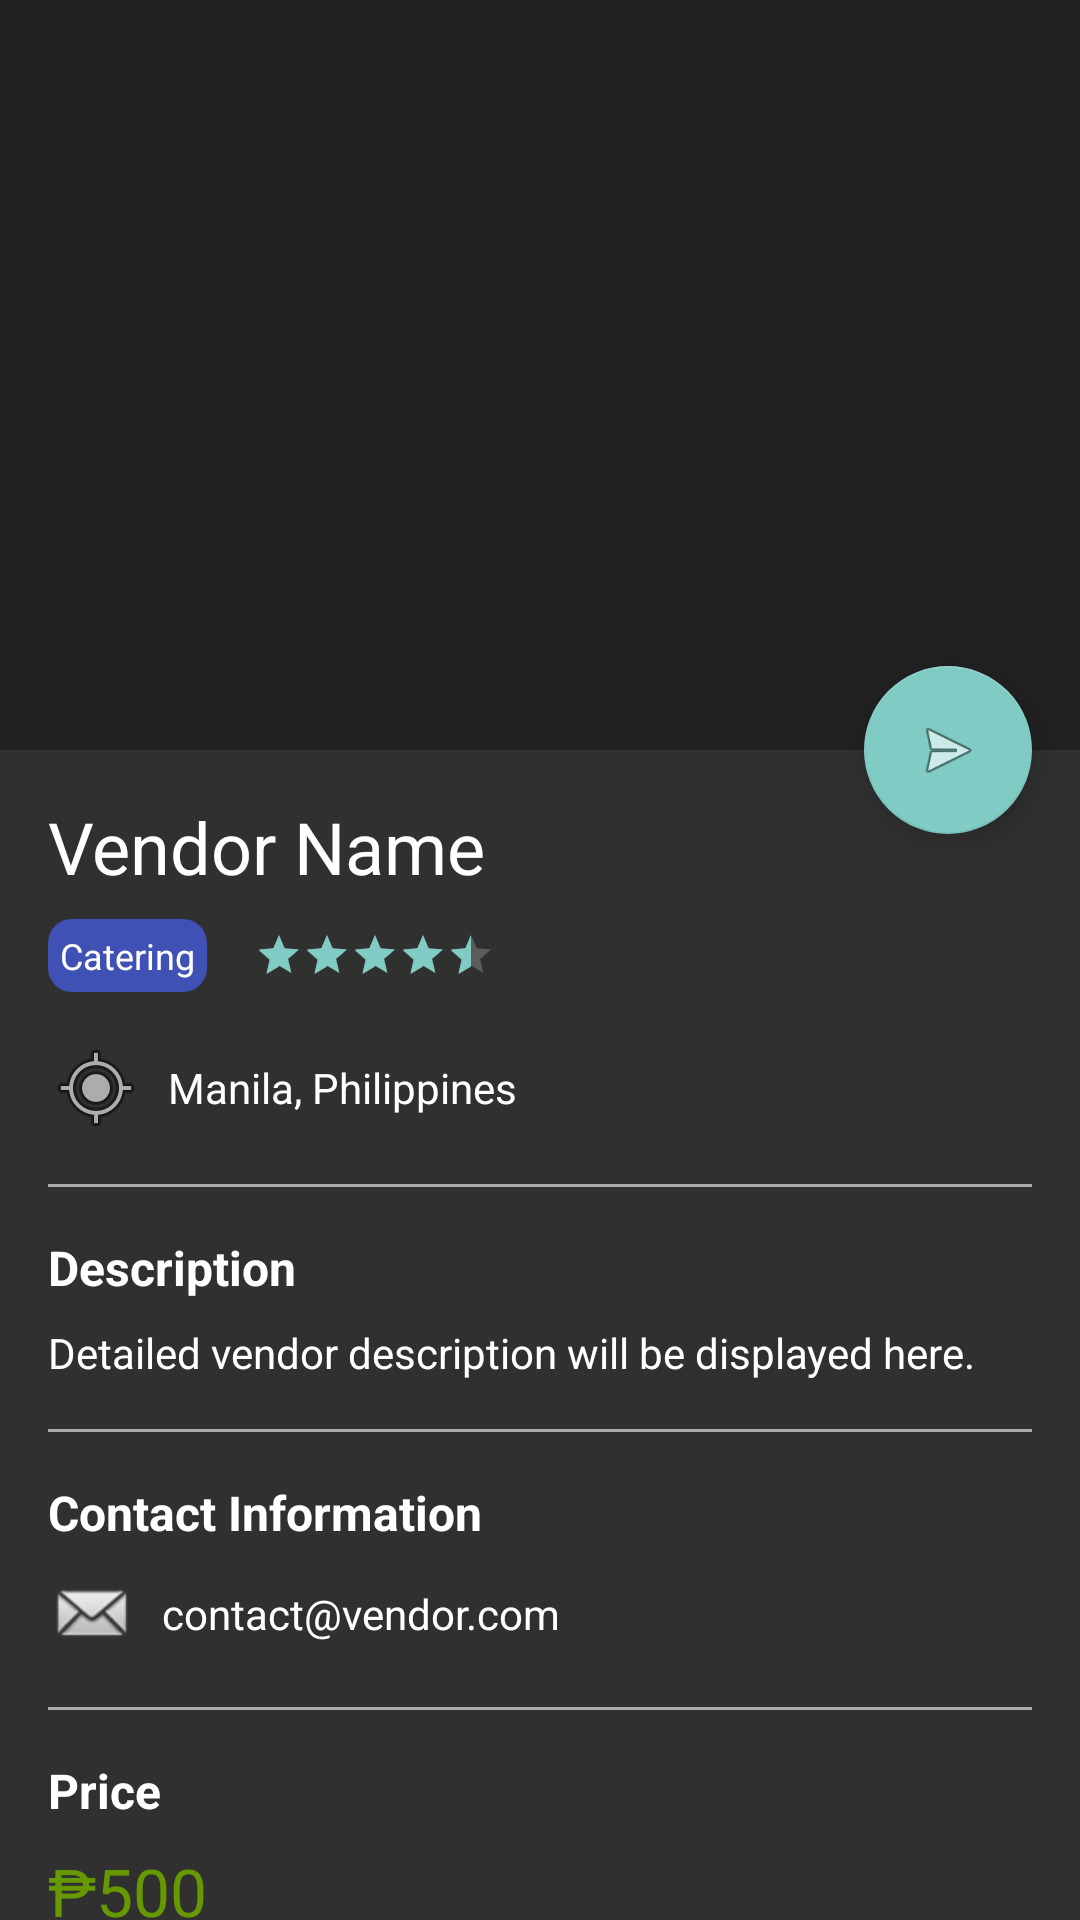

Where to tap for icons on this 1080w x 1920h app screen, as [x,y]:
send: [948,750]
